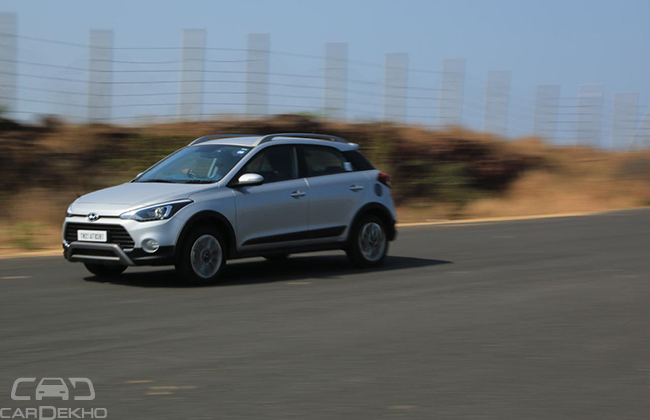car: (53, 126, 406, 305)
